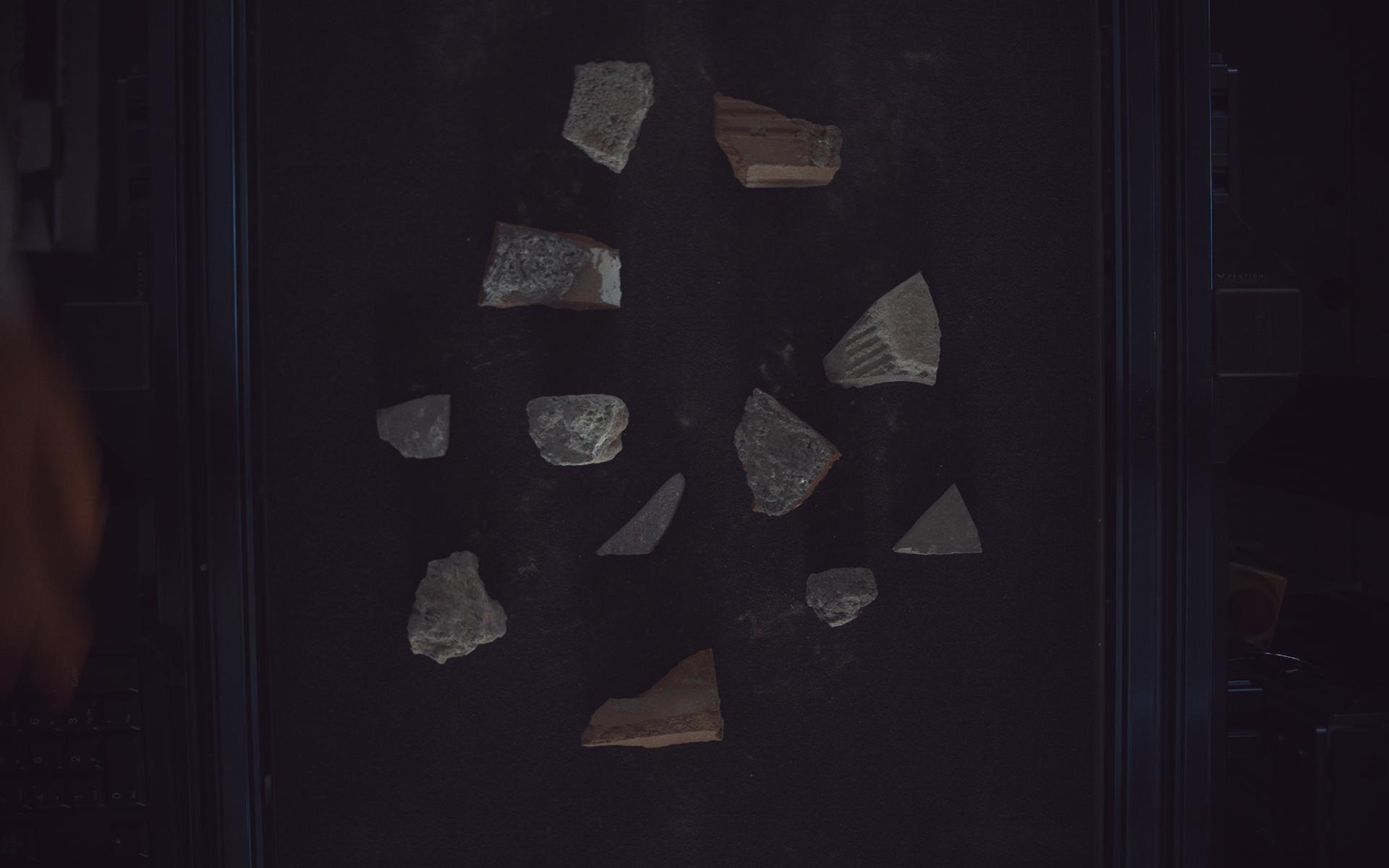brick: (582, 651, 725, 749), (736, 388, 842, 516), (478, 222, 621, 310), (717, 92, 844, 187)
concrete: (407, 552, 506, 665), (564, 59, 655, 172), (527, 393, 629, 467), (807, 569, 879, 628)
tile: (825, 272, 943, 388), (598, 474, 686, 556), (895, 485, 984, 556), (376, 394, 451, 459)
